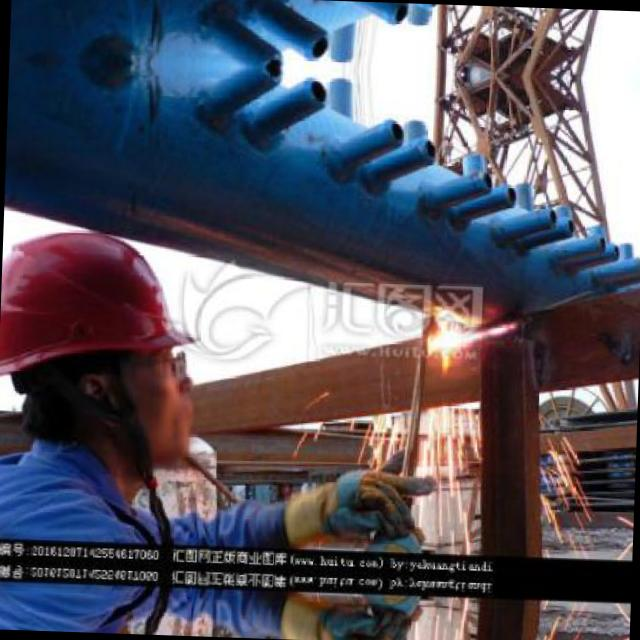helmet: (0, 184, 229, 487)
